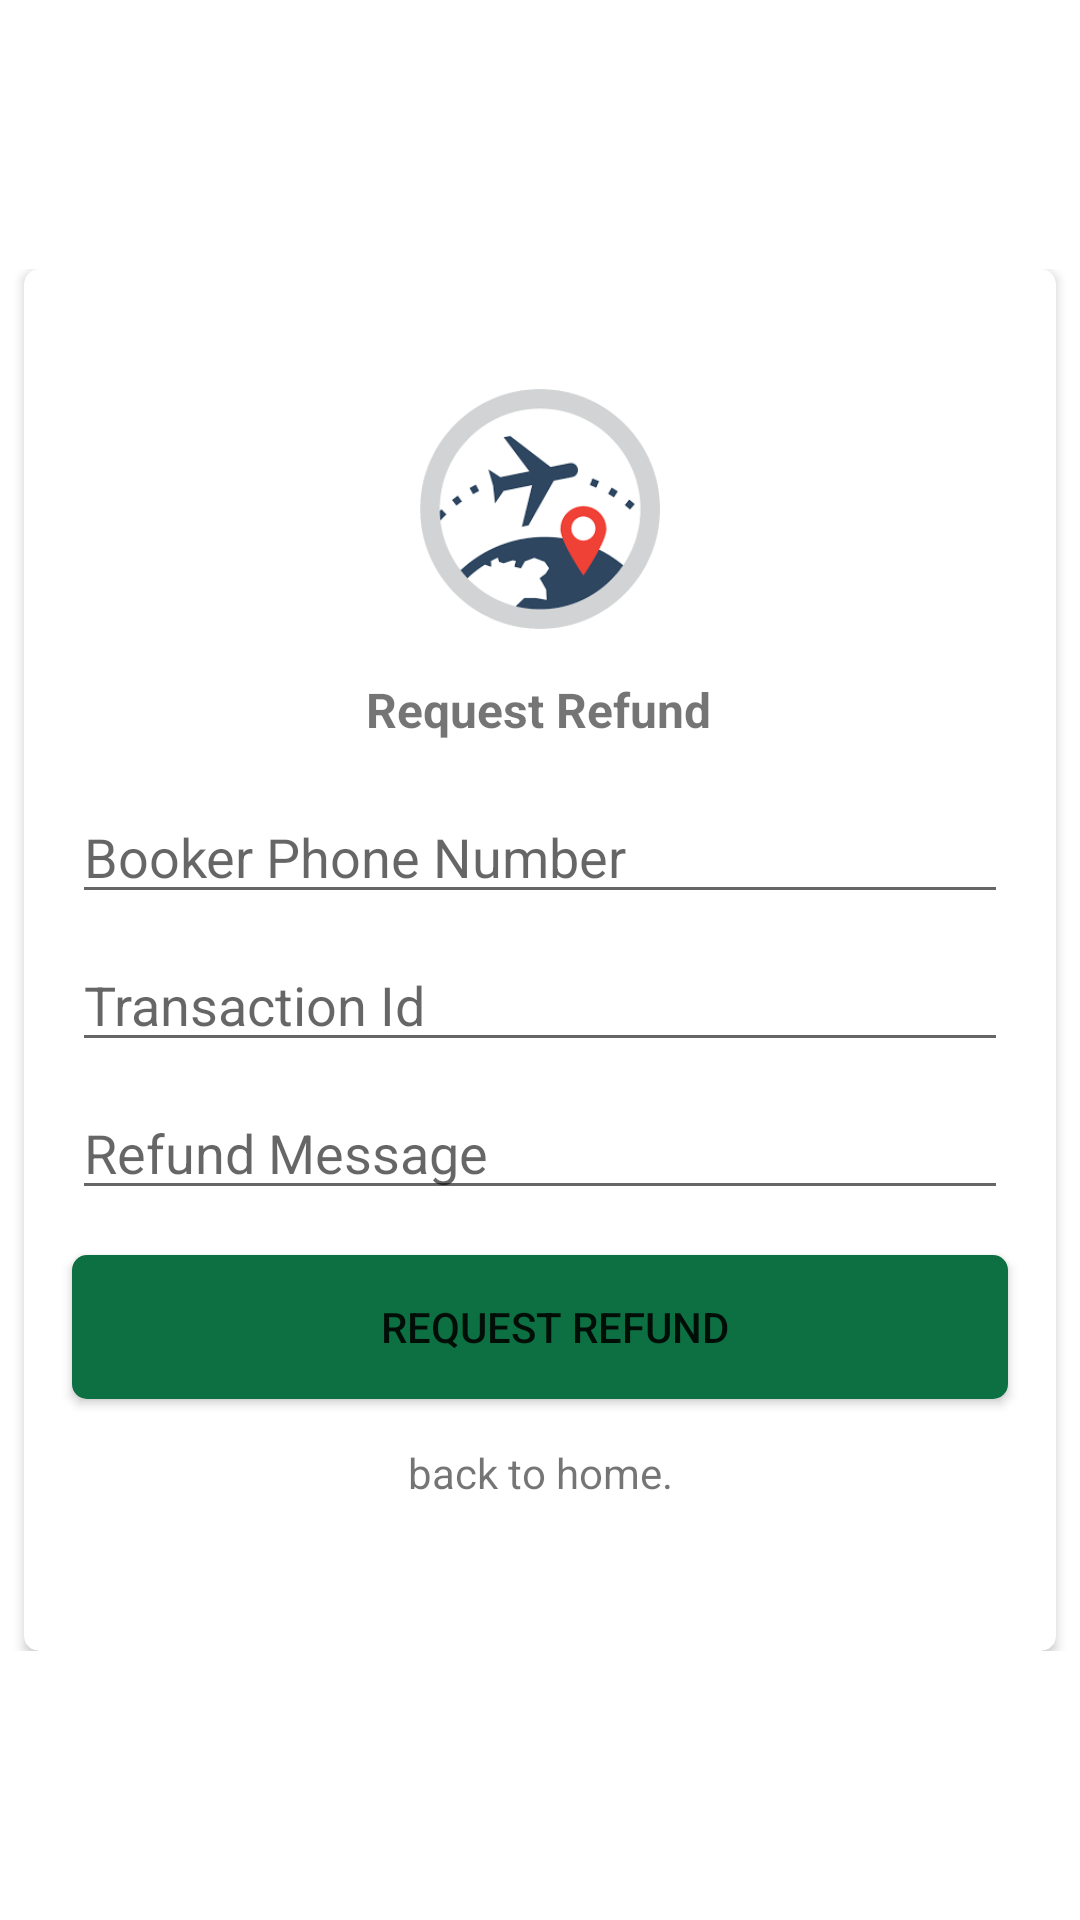

Icons on this 1080px×1920px Android screen, each with its box as (x1, y1, x2, y2):
travel: (420, 389, 660, 629)
